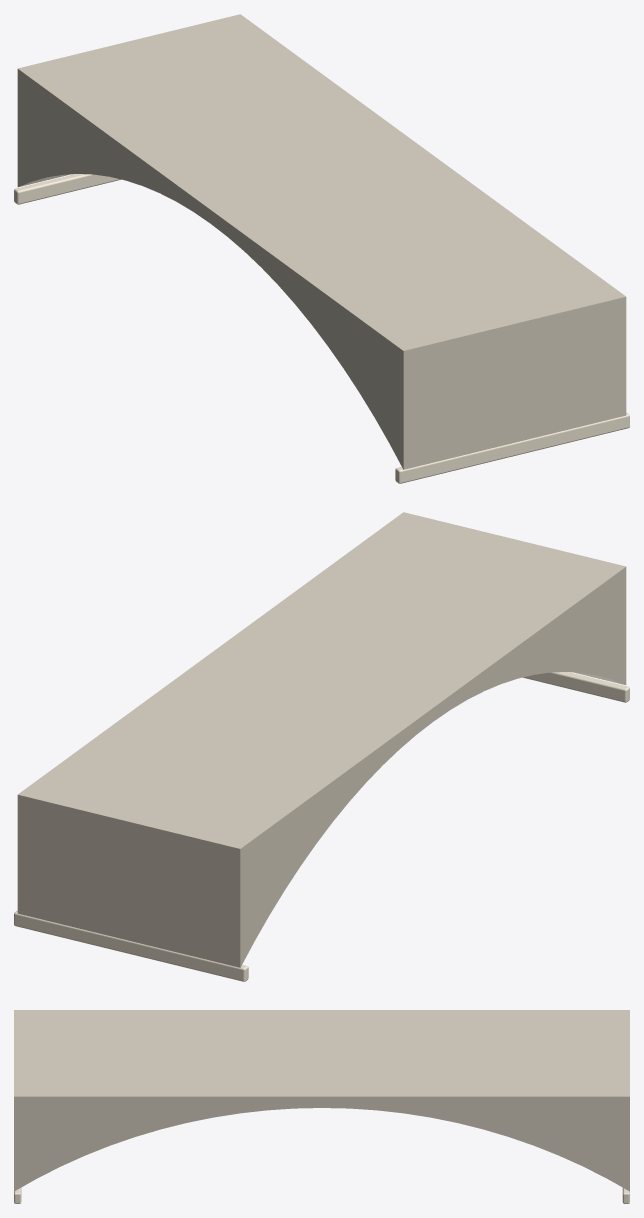
The model's file is arch3.glb.
3 renders of one model, top to bottom at view 1: azimuth 30°, elevation 25°; view 2: azimuth 150°, elevation 25°; view 3: azimuth 270°, elevation 25°, orthographic. The views are drawn at different scales.
Visible parts, largest first — view 1: bogen, kaempfer-1, kaempfer1; view 2: bogen, kaempfer1, kaempfer-1; view 3: bogen.
Boxes of the visible parts, left/top/right/bottom form: bogen: left=17, top=14, right=626, bottom=469; kaempfer-1: left=395, top=412, right=629, bottom=483; kaempfer1: left=14, top=174, right=120, bottom=204; bogen: left=17, top=512, right=626, bottom=967; kaempfer1: left=14, top=910, right=248, bottom=981; kaempfer-1: left=523, top=672, right=629, bottom=702; bogen: left=14, top=1010, right=629, bottom=1191.
Size of the model in its own units: 1.04 by 0.57 by 3.
